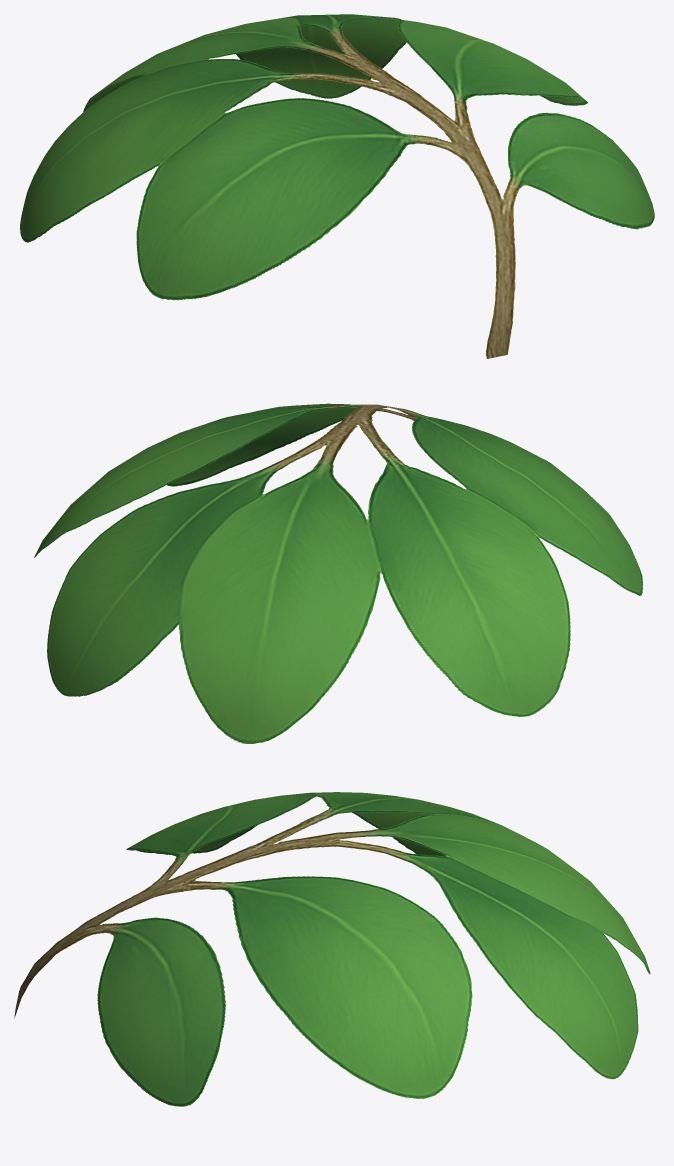
Rendered from LeafShape.fbx.
The picture shows the model from 3 angles, top to bottom: view 1: azimuth 30°, elevation 25°; view 2: azimuth 150°, elevation 25°; view 3: azimuth 270°, elevation 25°; orthographic projection.
Visible parts, largest first — view 1: GeoSphere001; view 2: GeoSphere001; view 3: GeoSphere001.
Part boxes in pixels (x1,y1,x2,y2): GeoSphere001: [20, 14, 654, 358]; GeoSphere001: [34, 403, 642, 743]; GeoSphere001: [14, 792, 650, 1106].
Bounding box in the file's own units: 89.59 × 27.84 × 89.72.
Materials: 1 (1 with a texture image).
